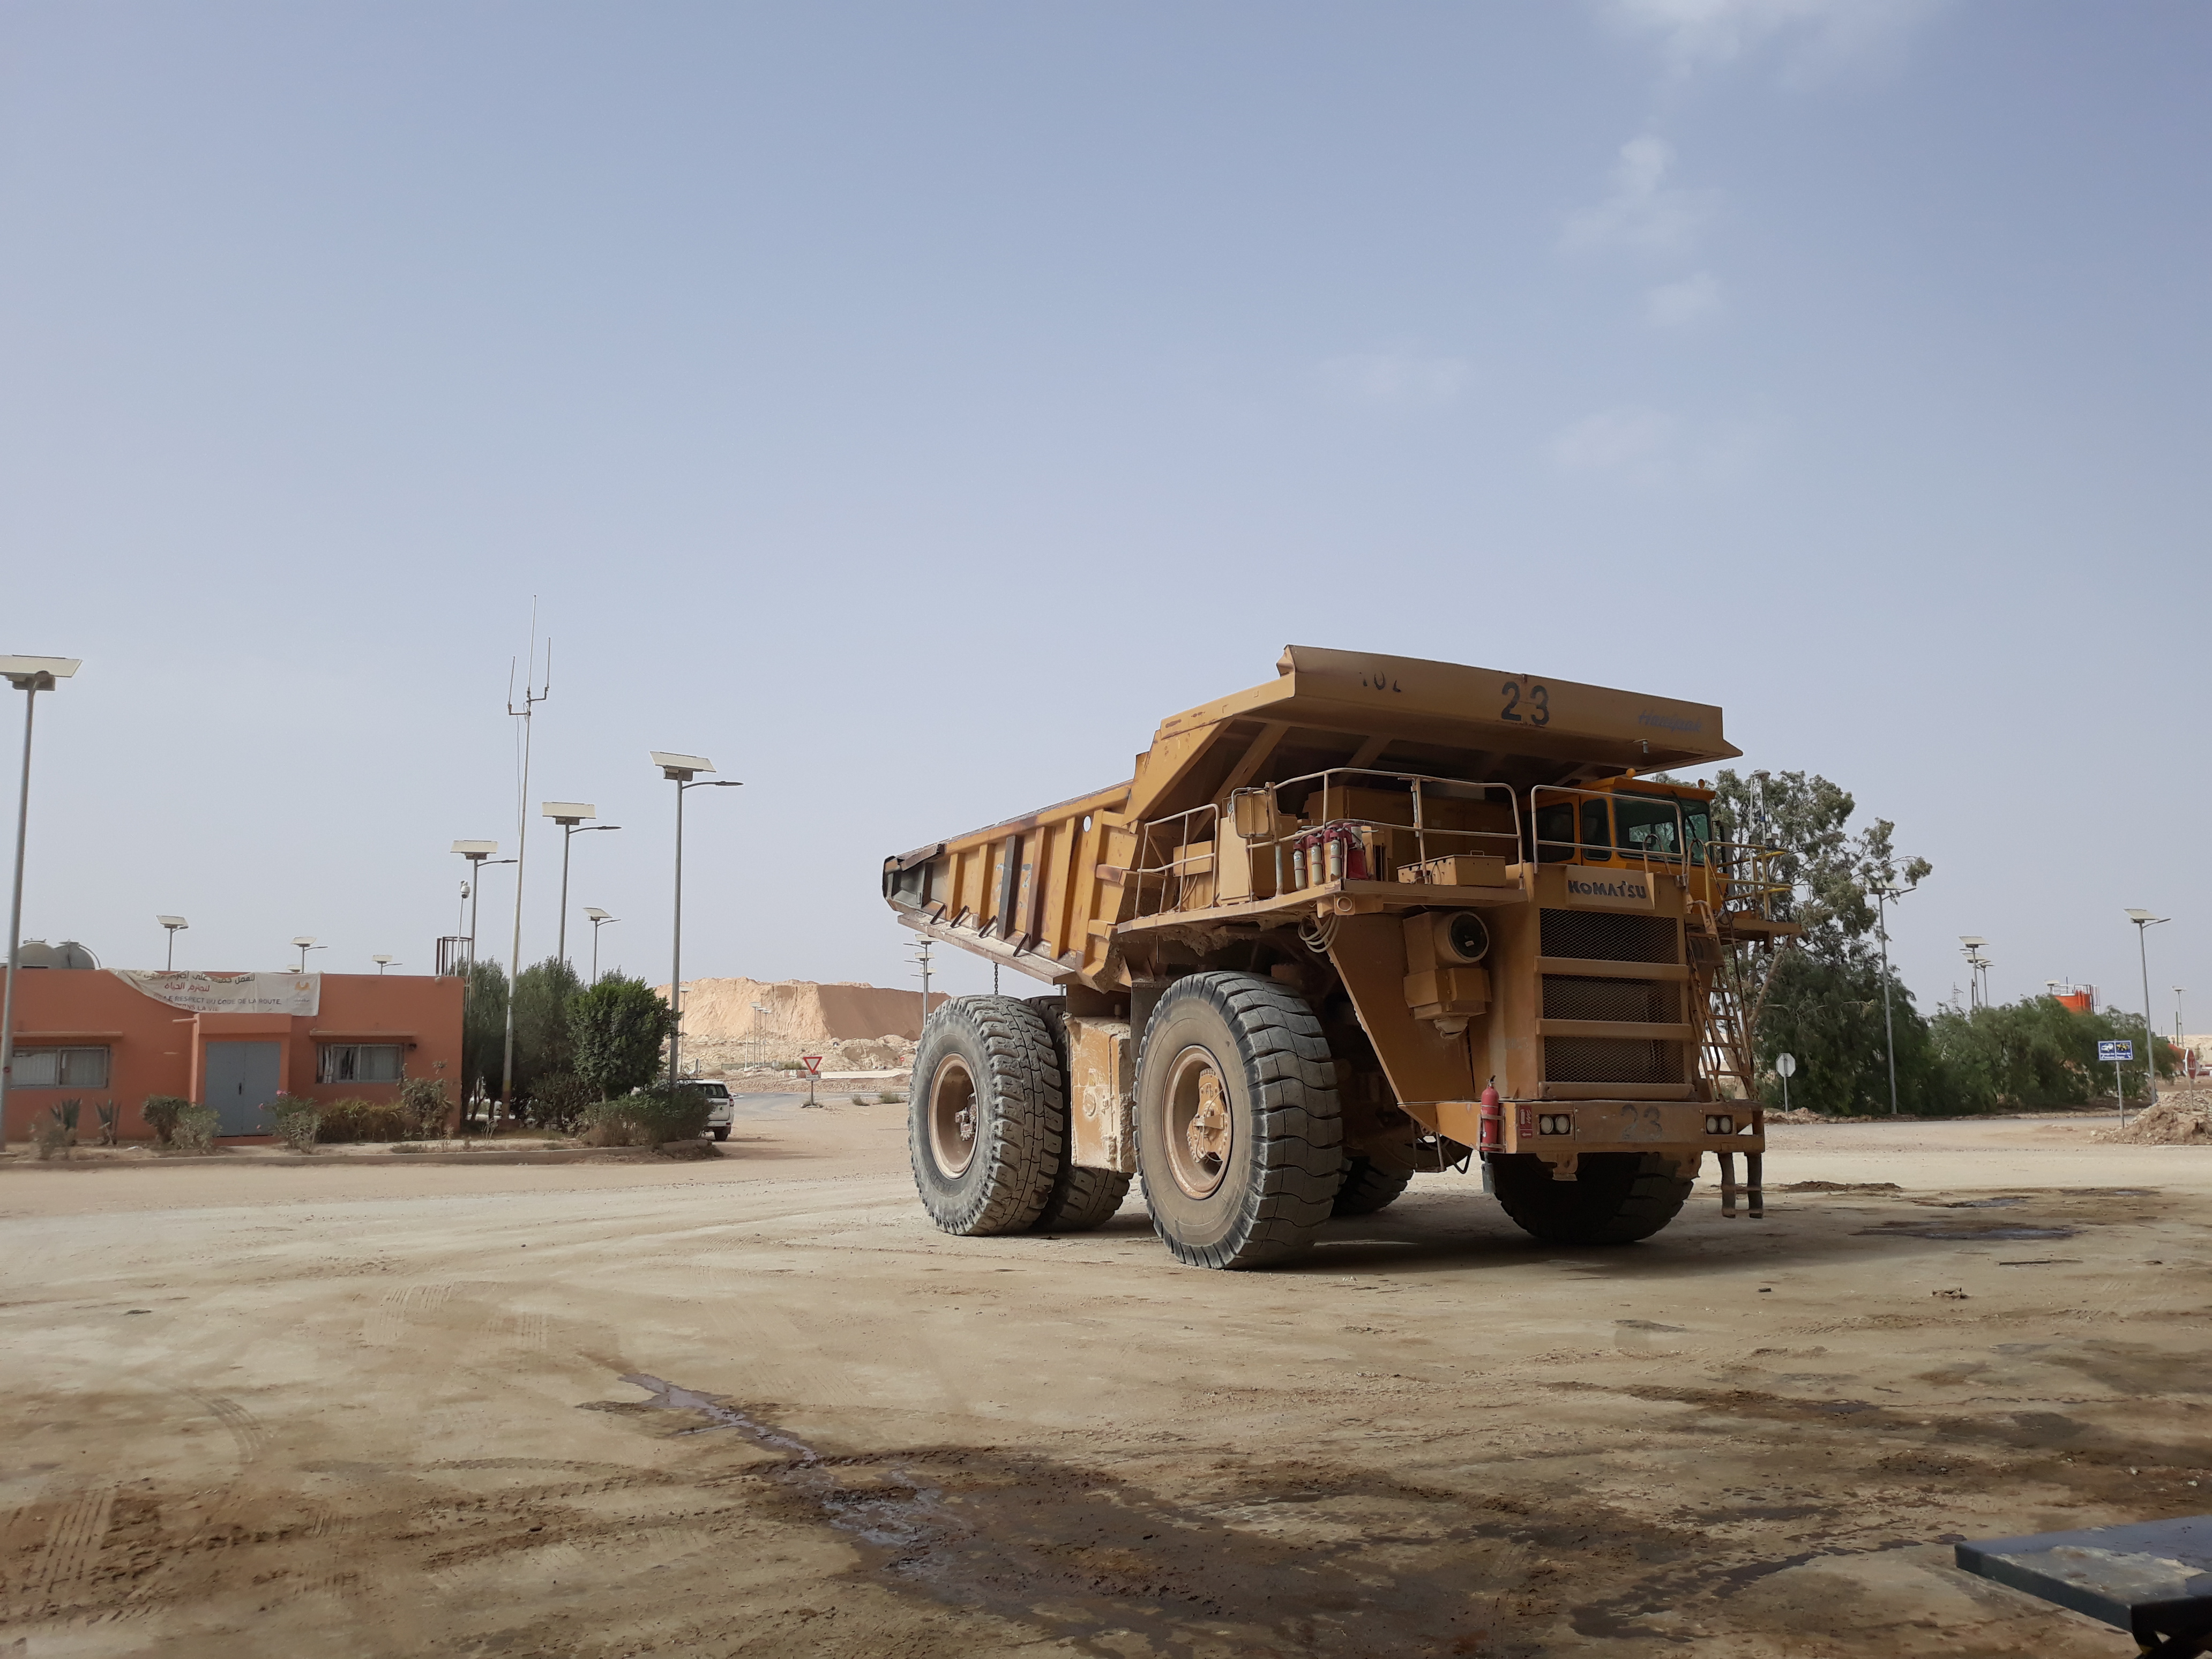camion: (869, 634, 1797, 1267)
car: (641, 1070, 747, 1159)
